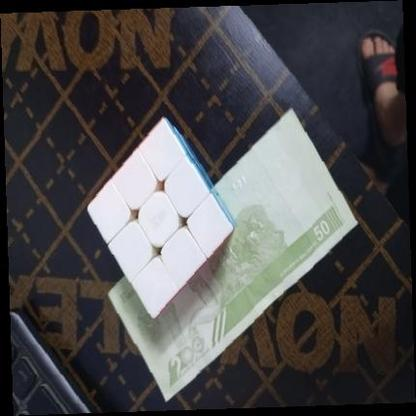fifty-back-vef: (107, 106, 358, 404)
